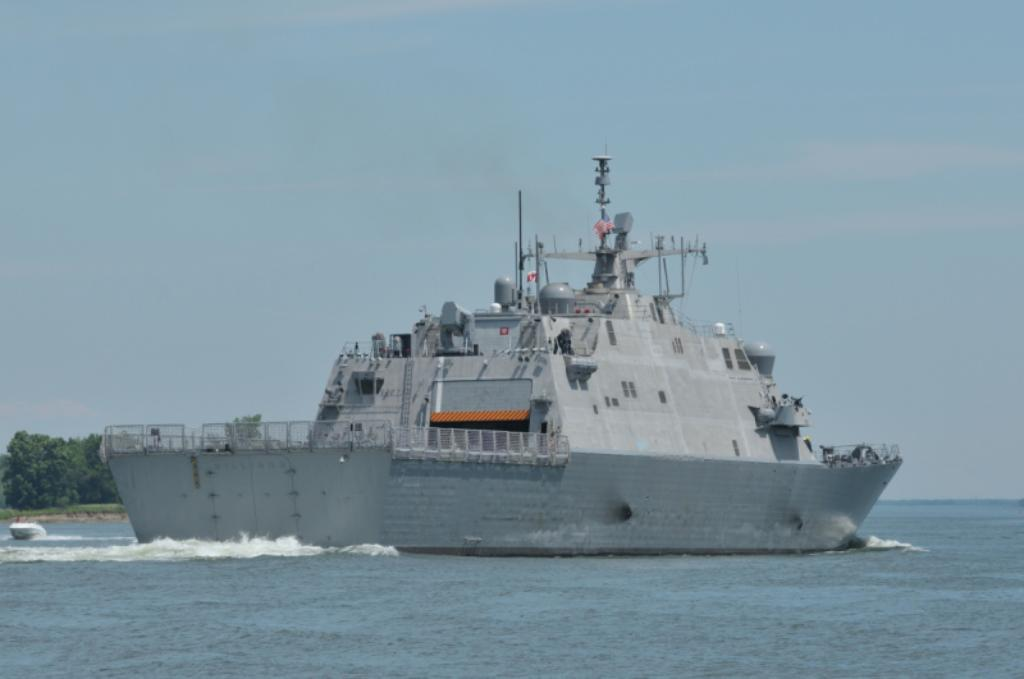Warship: (96, 150, 906, 554)
